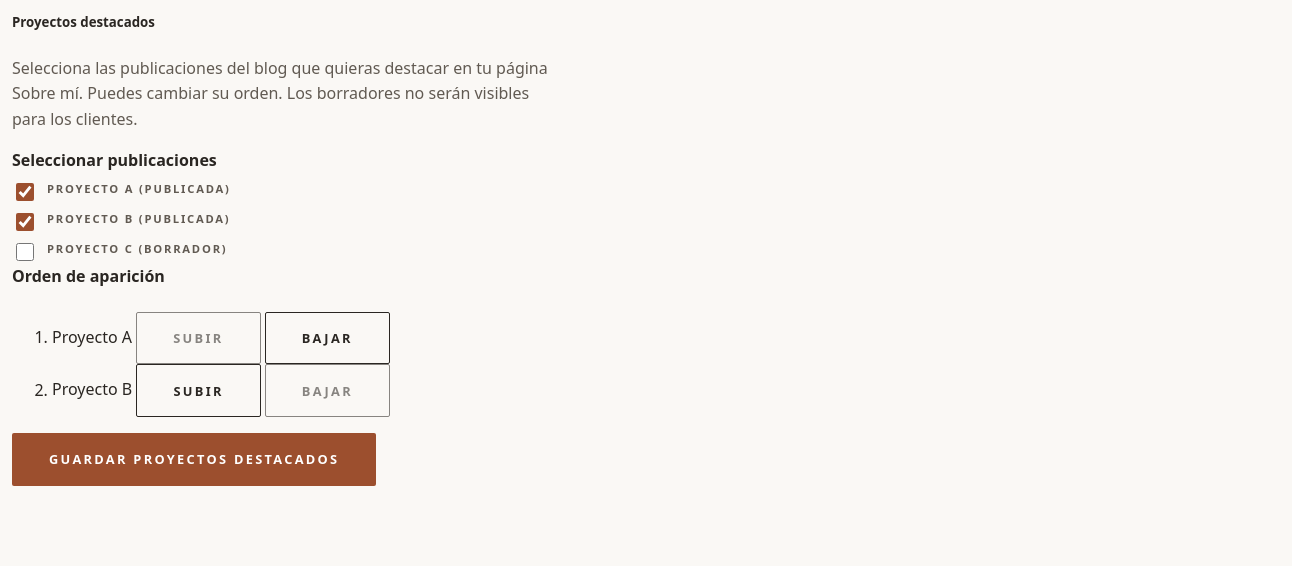
Test: SelectorProyectosSobreMi › permite seleccionar y deseleccionar publicaciones
Click the checkbox labelled "Proyecto A (Publicada)".
click(25, 192)  # box [16,183,34,201]
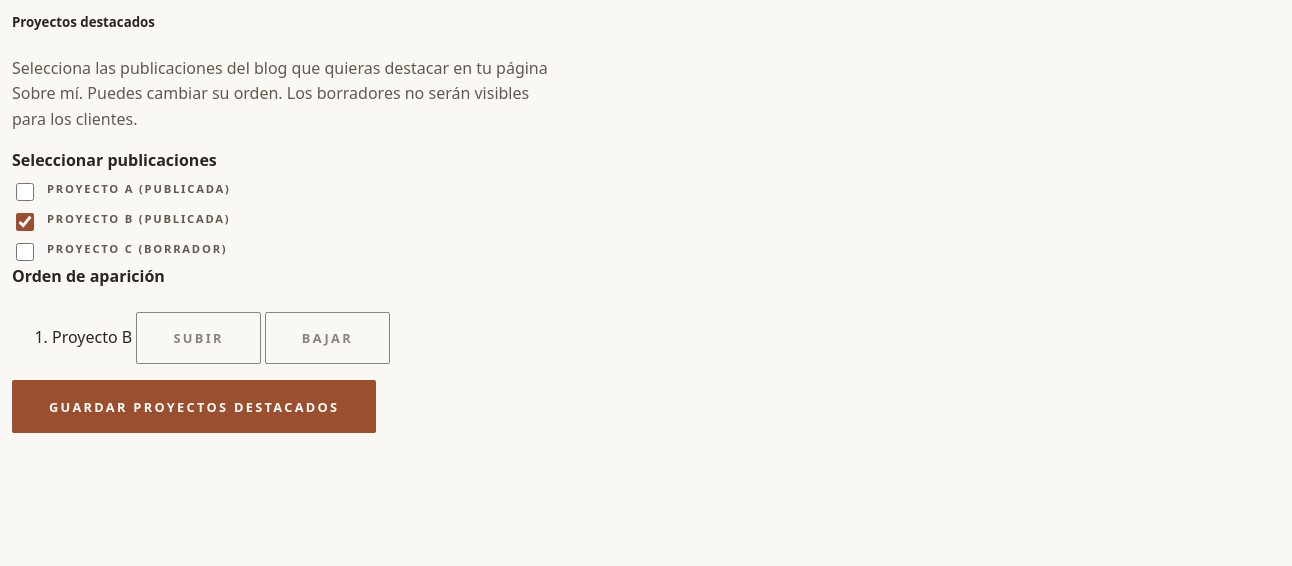
Click the checkbox labelled "Proyecto C (Borrador)".
click(25, 252)  # box [16,243,34,261]
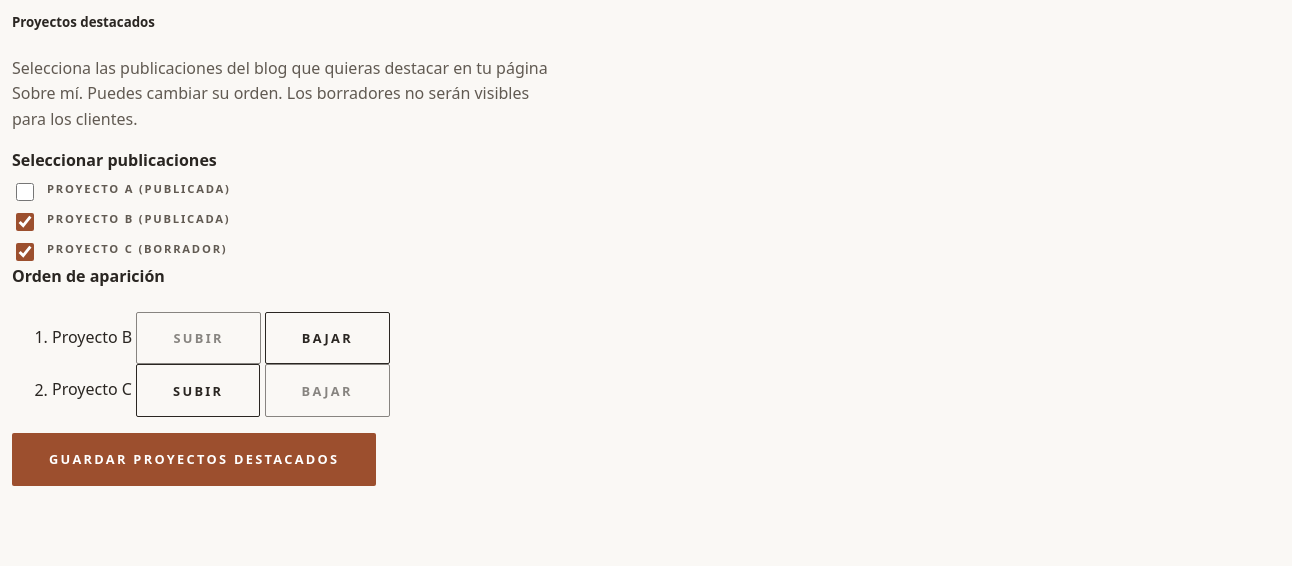
Click the button "Guardar proyectos destacados".
click(194, 460)  # box [12,433,376,486]
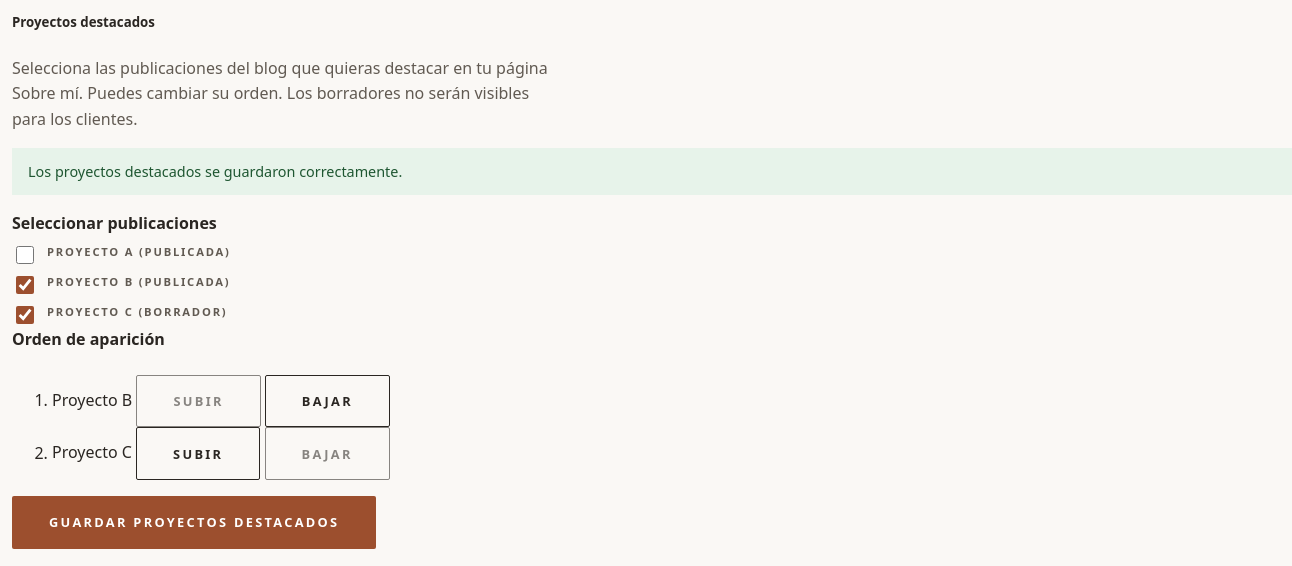
Expected: the message reads "Los proyectos destacados se guardaron correctamente.", [28,162,402,181]
